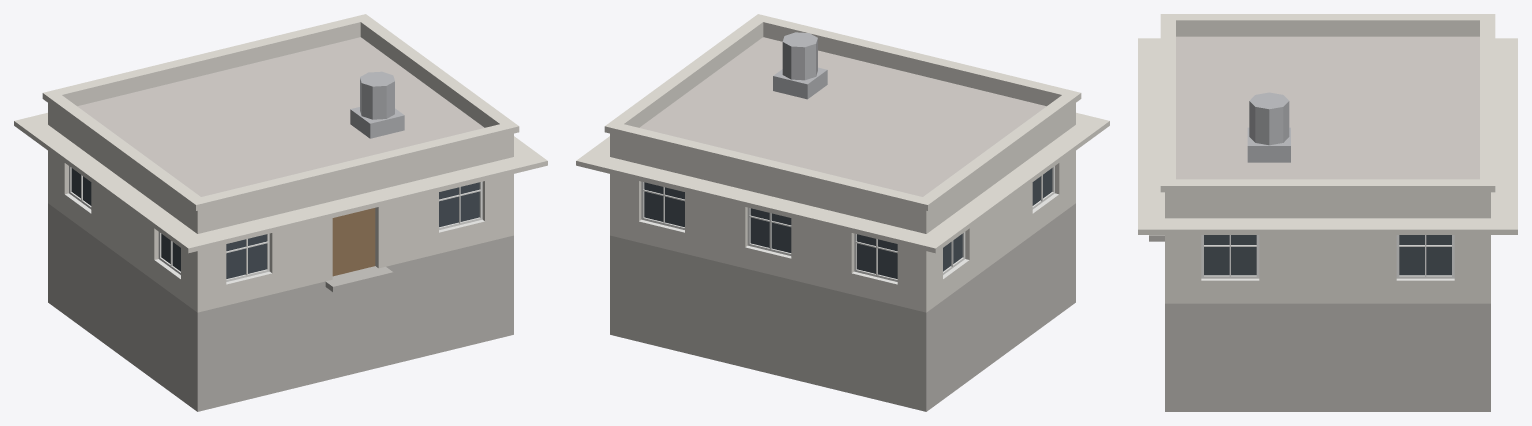
The model's file is tropical_flat_1_m.glb.
3 renders of one model, left to right at view 1: azimuth 30°, elevation 25°; view 2: azimuth 150°, elevation 25°; view 3: azimuth 270°, elevation 25°, orthographic. The views are drawn at different scales.
Visible parts, largest first — view 1: tropical_flat_1_m; view 2: tropical_flat_1_m; view 3: tropical_flat_1_m.
Part boxes in pixels (x1=…): tropical_flat_1_m: x1=14, y1=14, x2=547, y2=411; tropical_flat_1_m: x1=576, y1=14, x2=1109, y2=411; tropical_flat_1_m: x1=1138, y1=14, x2=1517, y2=411.
Bounding box in the file's own units: 12.5 × 8.05 × 10.5.
